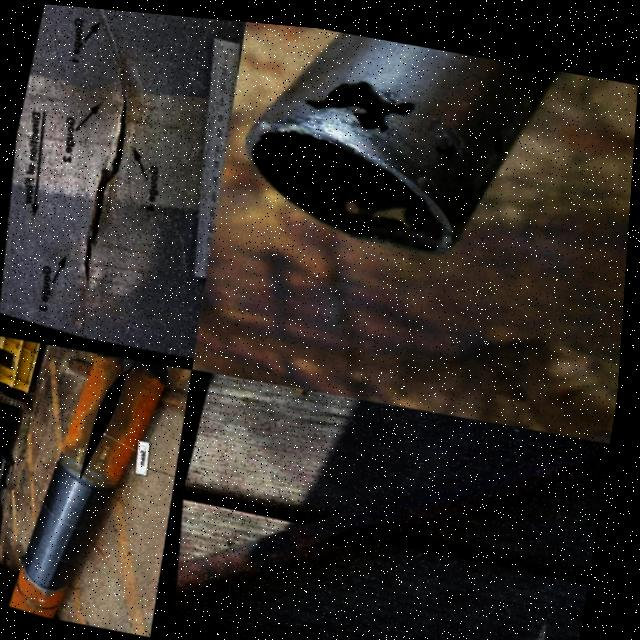crack: (82, 83, 131, 311), (302, 511, 422, 555)
hole: (289, 65, 428, 151), (323, 181, 419, 238)
rupture: (85, 369, 135, 483)
